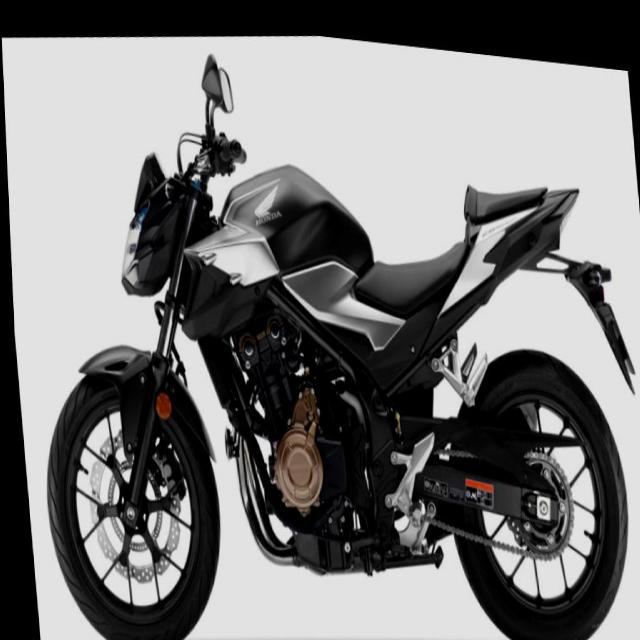CB500F: (11, 62, 640, 639)
